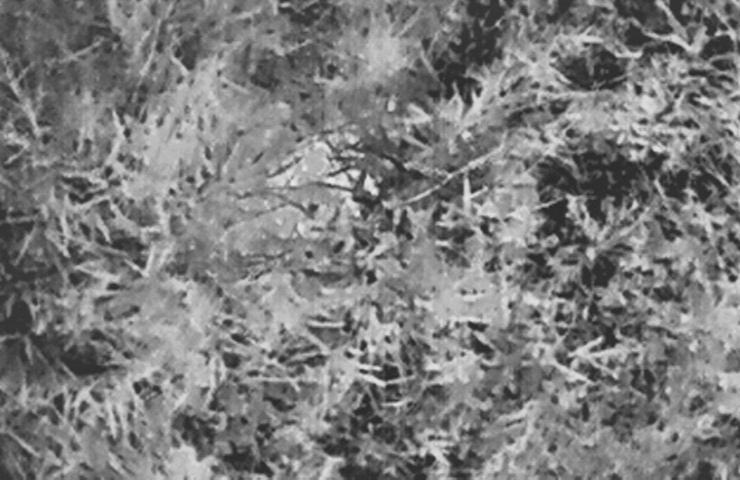landmines: (265, 126, 386, 244)
